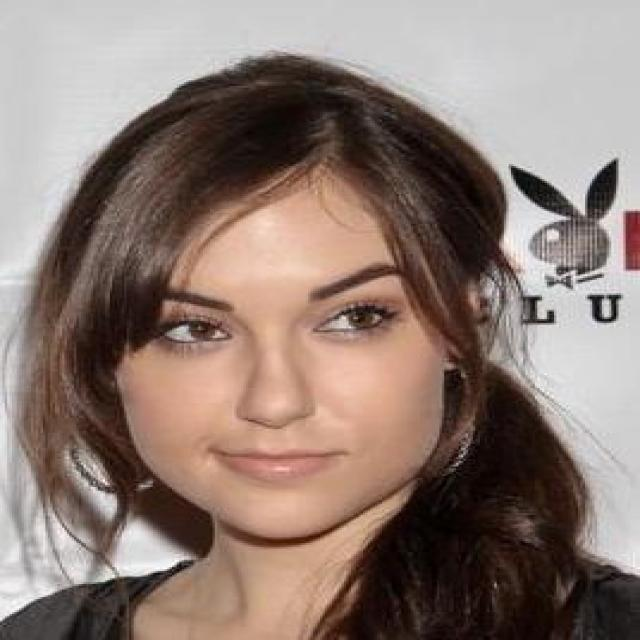0_rostro_limpio: (102, 137, 492, 546)
